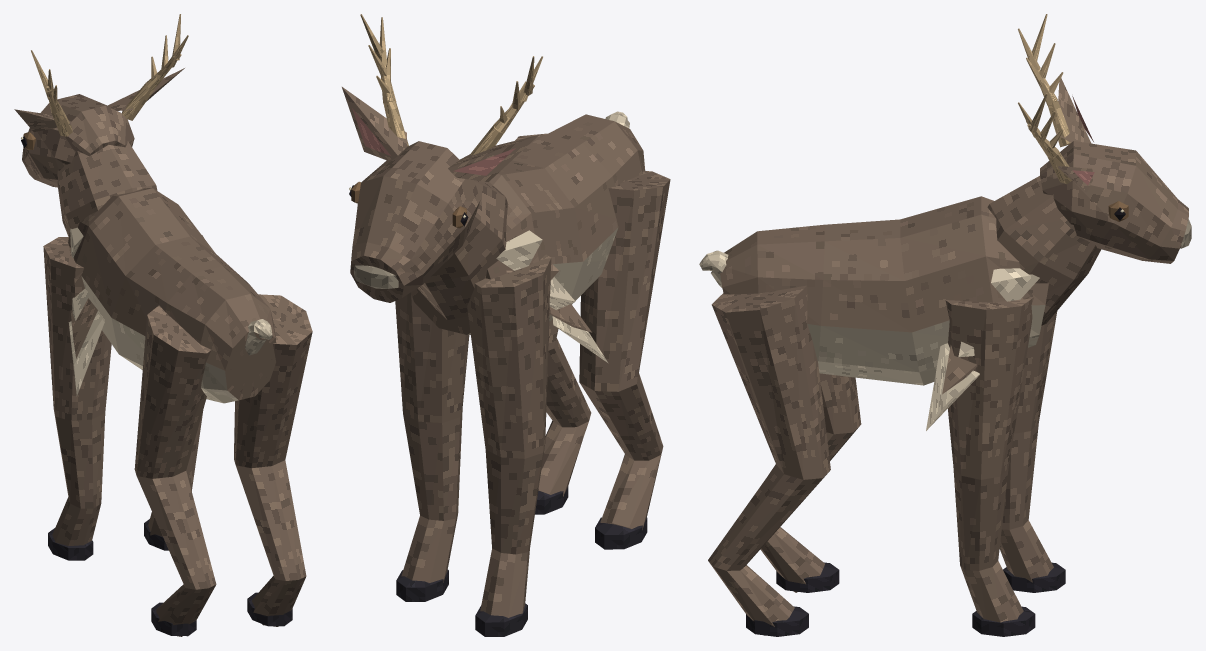
File: mon_reindeer_fawn.glb
The picture shows the model from 3 angles, left to right: view 1: azimuth 30°, elevation 25°; view 2: azimuth 150°, elevation 25°; view 3: azimuth 270°, elevation 25°; orthographic projection. The views are drawn at different scales.
Parts seen in each view (by area): view 1: closed_body; view 2: closed_body; view 3: closed_body.
Part boxes in pixels (box(x1,y1,x2,y2)): closed_body: box(14, 14, 312, 636); closed_body: box(342, 14, 670, 636); closed_body: box(699, 14, 1191, 636).
Size of the model in its own units: 0.424 by 1.21 by 0.9627.
1 material, 1 textured.
